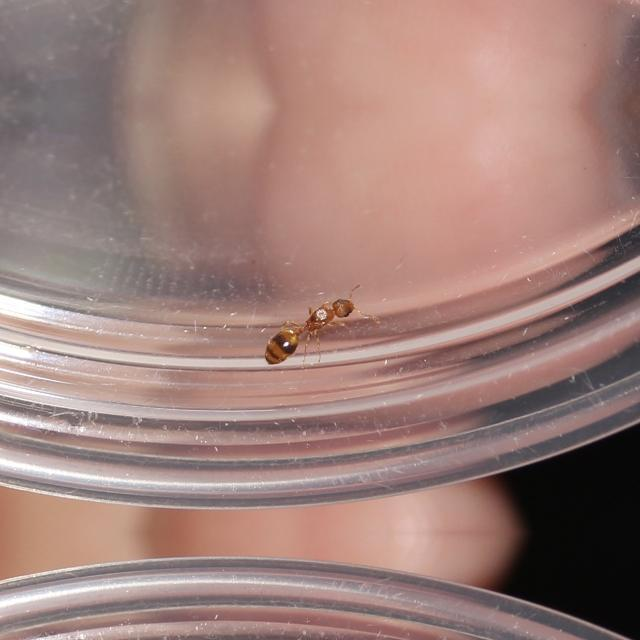Temnothorax: (242, 274, 380, 372)
